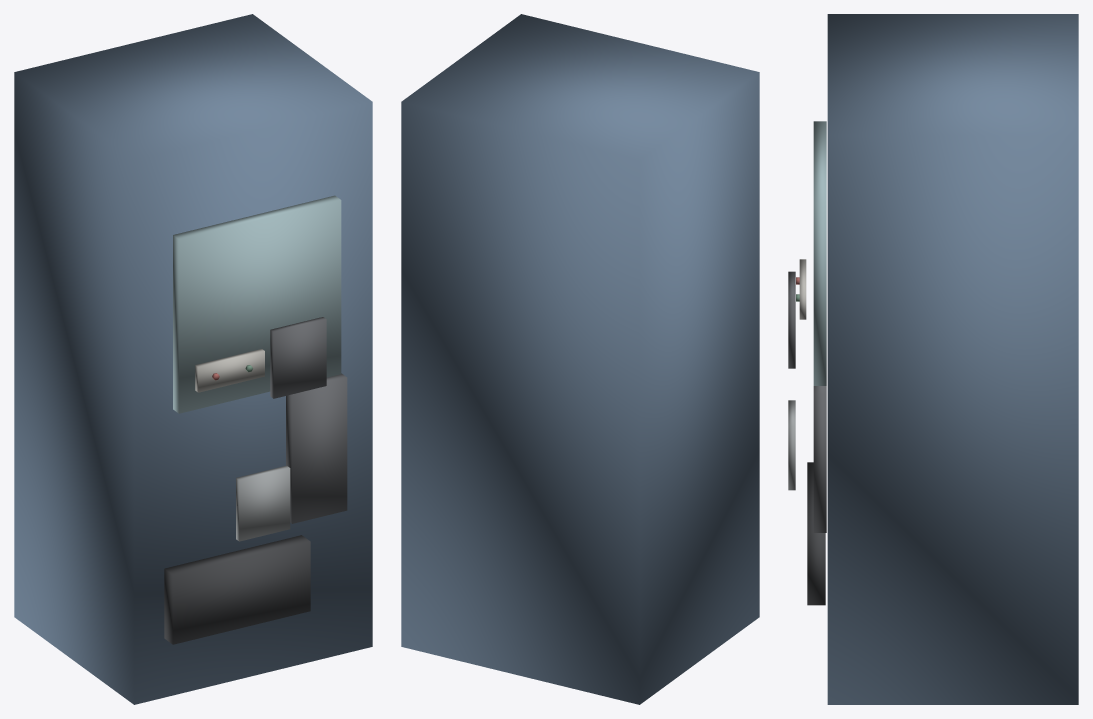
Rendered from drink_vending_machine__weathered.glb.
The picture shows the model from 3 angles, left to right: view 1: azimuth 30°, elevation 25°; view 2: azimuth 150°, elevation 25°; view 3: azimuth 270°, elevation 25°; orthographic projection. The views are drawn at different scales.
Parts seen in each view (by area): view 1: world; view 2: world; view 3: world.
Boxes of the visible parts, x1=… form: world: x1=14, y1=14, x2=372, y2=704; world: x1=401, y1=14, x2=759, y2=704; world: x1=788, y1=14, x2=1078, y2=704.
Bounding box in the file's own units: 0.78 × 1.7 × 0.7863.
